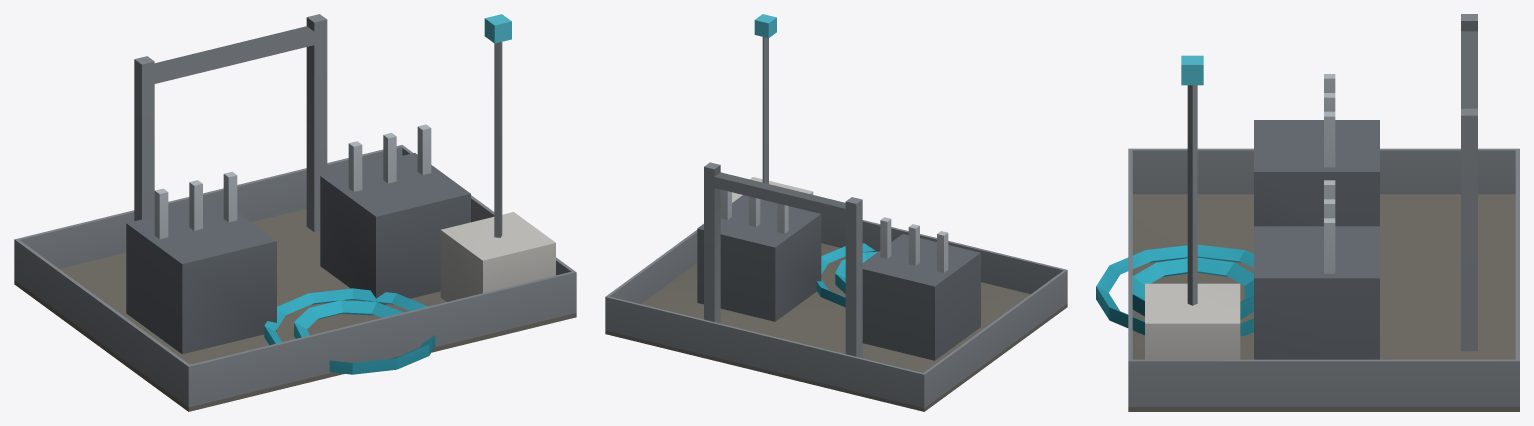
The model's file is substation_smart.fbx.
The picture shows the model from 3 angles, left to right: view 1: azimuth 30°, elevation 25°; view 2: azimuth 150°, elevation 25°; view 3: azimuth 270°, elevation 25°; orthographic projection. The views are drawn at different scales.
Visible parts, largest first — view 1: substation_smart; view 2: substation_smart; view 3: substation_smart.
Boxes of the visible parts, left/top/right/bottom form: substation_smart: left=14, top=14, right=576, bottom=411; substation_smart: left=605, top=14, right=1067, bottom=411; substation_smart: left=1096, top=14, right=1519, bottom=411.
Size of the model in its own units: 18 by 12.8 by 15.15.
